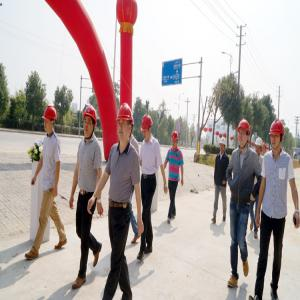red: (118, 103, 133, 143), (269, 119, 285, 152), (43, 106, 59, 136), (83, 105, 97, 139), (239, 120, 251, 147), (142, 113, 153, 141), (171, 130, 179, 149)
white: (255, 137, 264, 156), (220, 137, 227, 154)
